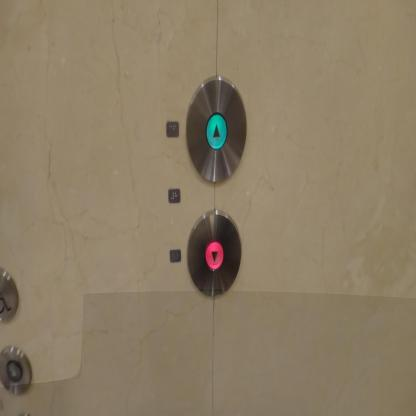down: (186, 209, 242, 297)
up: (186, 73, 247, 183), (0, 342, 34, 400)
